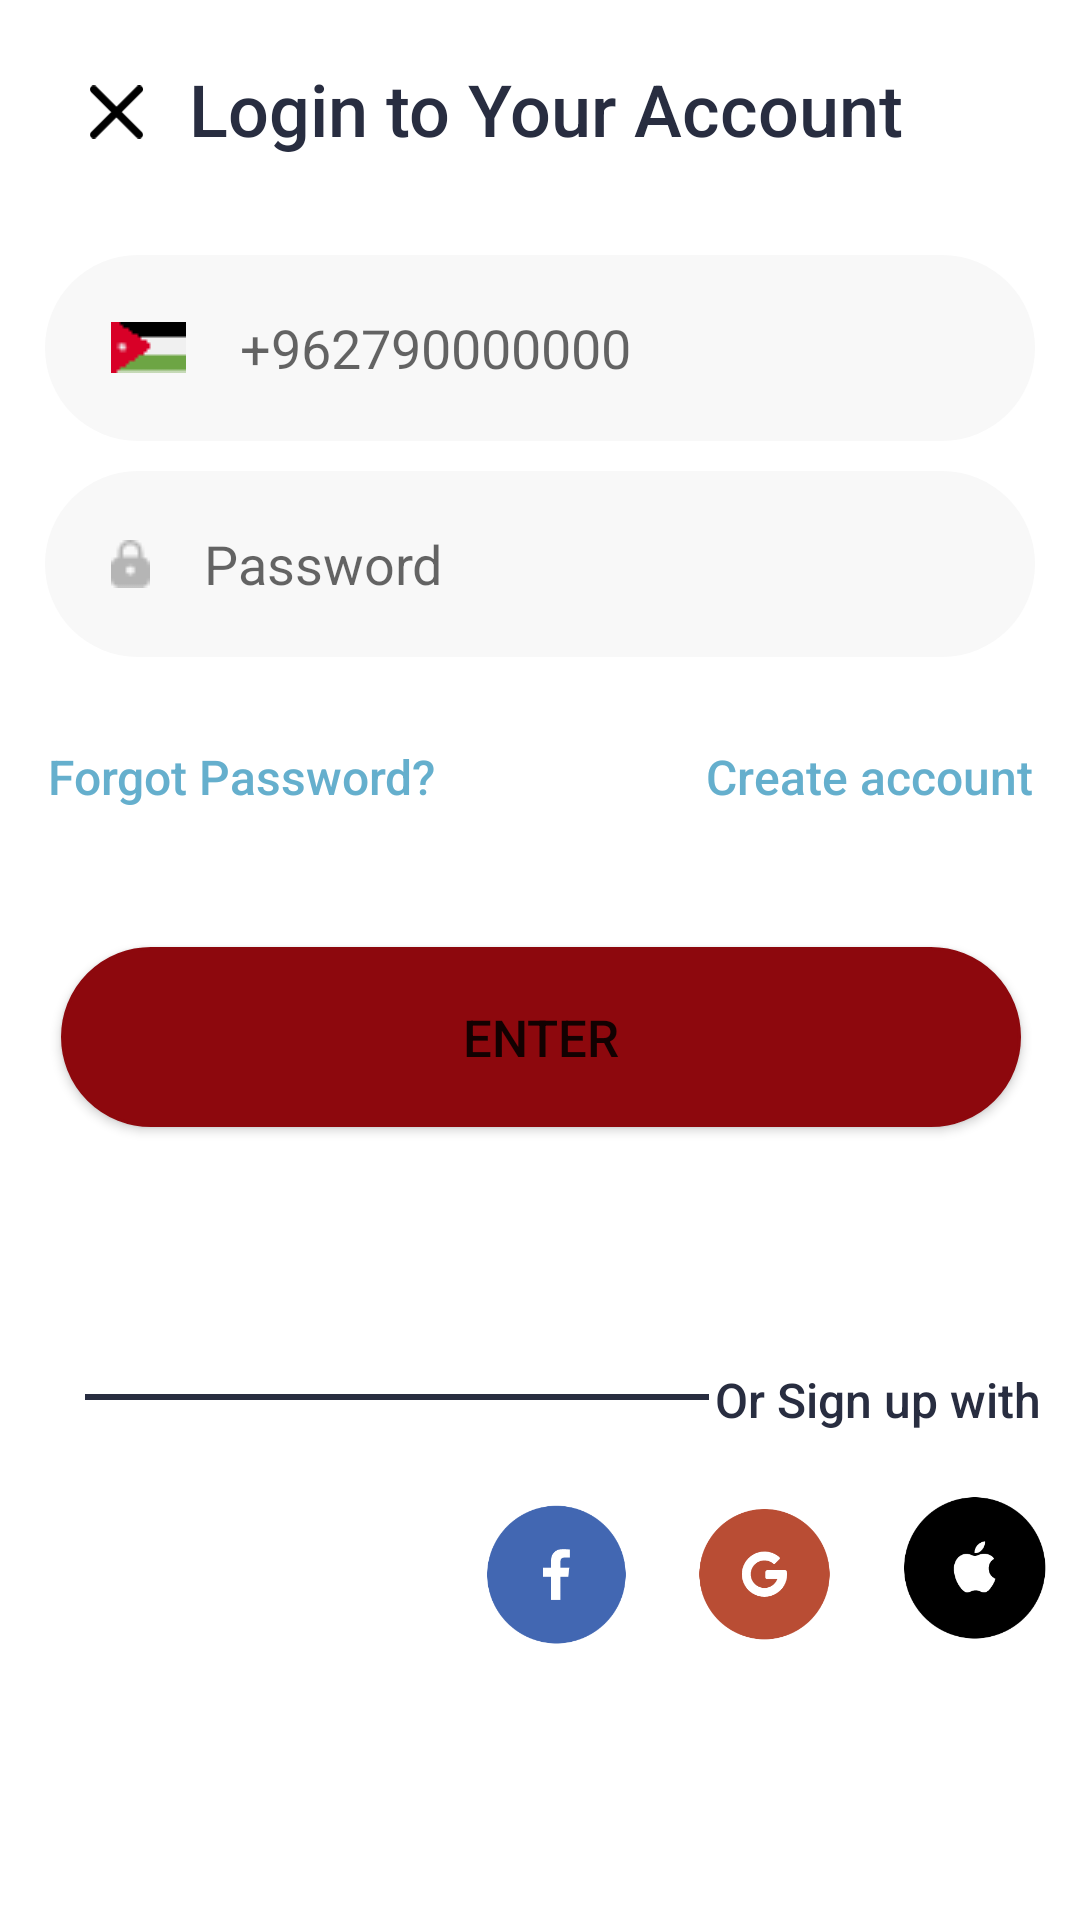

Icons on this 1080 x 1920 Android screen, each with the point to tap as [x,y]:
clos: [116,112]
